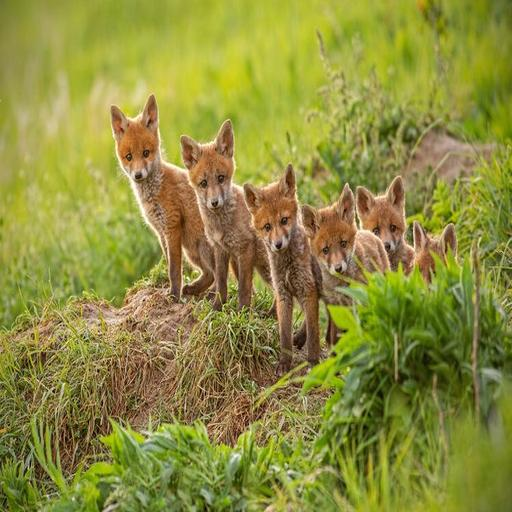Fox: (110, 96, 230, 306), (237, 160, 358, 366), (182, 118, 278, 318), (294, 184, 398, 340), (347, 180, 432, 315), (408, 214, 492, 319)
